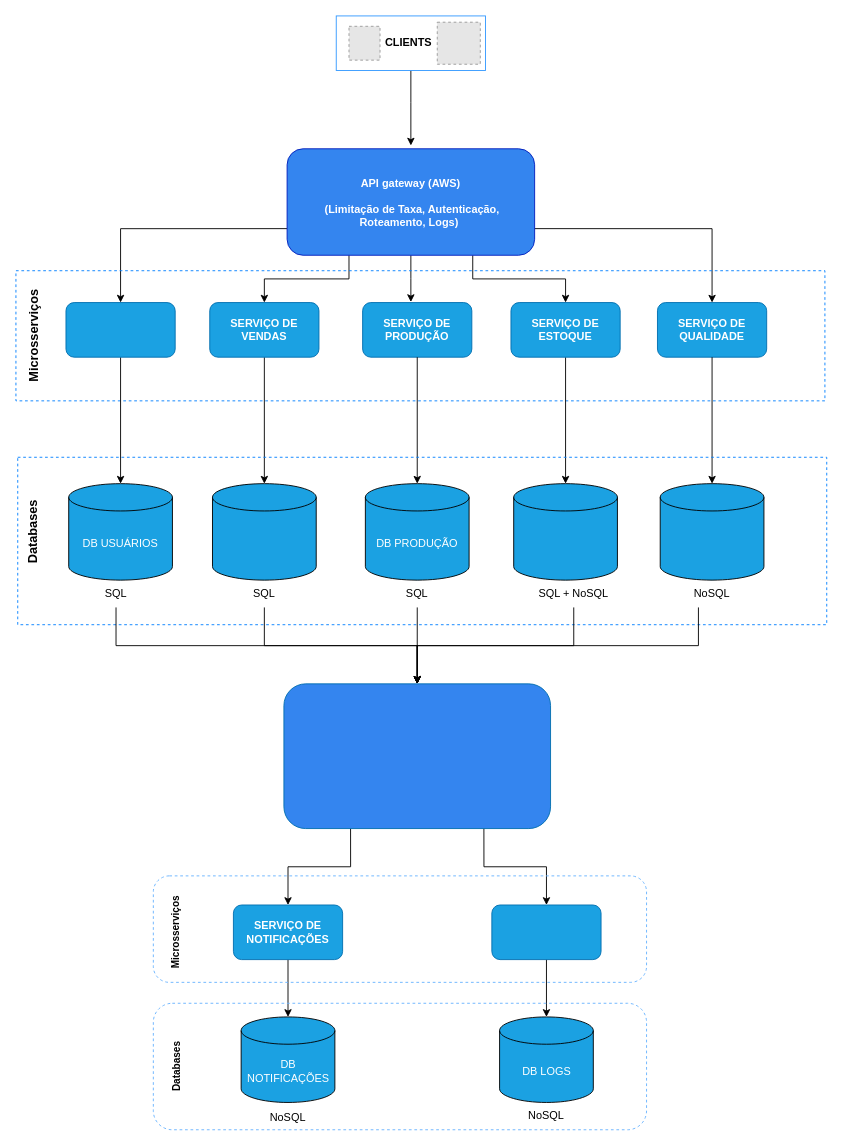
Image size: 843x1148. Some labels were removed from this diagram. Grey dashed boxes stand in for pictures. Each missing label, with the centre of its shape:
DB ESTOQUE: point (565, 531)
DB QUALIDADE: point (711, 531)
DB VENDAS: point (264, 531)
MESSAGE BROKER (SQS) Pub/Sub EventBus: point (417, 756)
SERVIÇO DE AUDITORIA & LOGS: point (546, 932)
SERVIÇO DE AUTENTICAÇÃO: point (120, 329)
